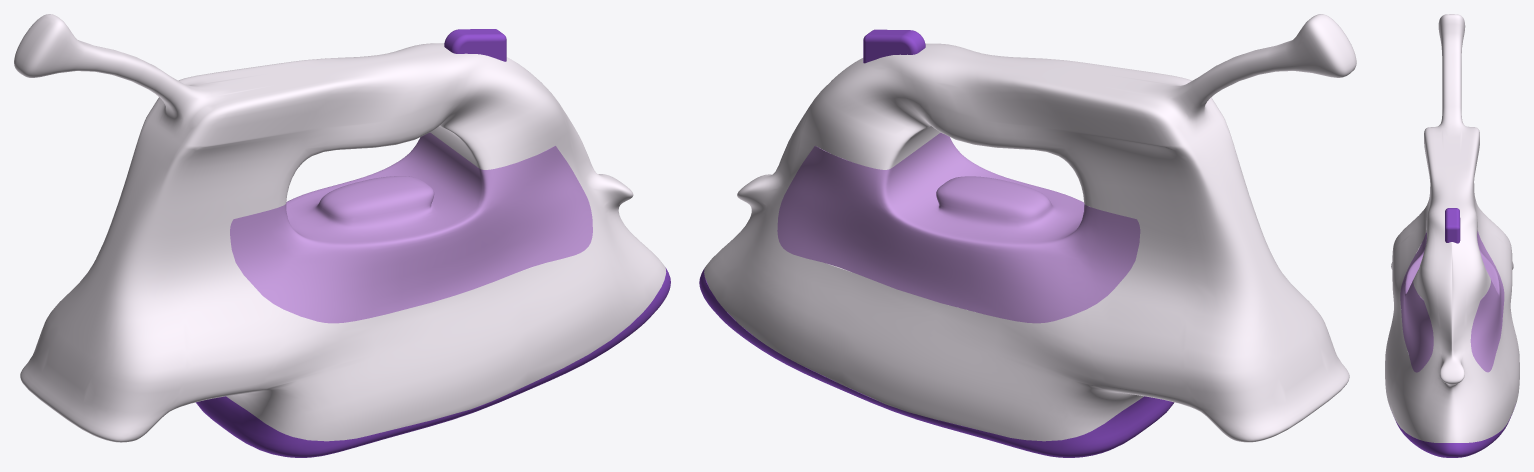
The model's file is watch.glb.
3 views of the same model, side by side, from view 1: azimuth 30°, elevation 25°; view 2: azimuth 150°, elevation 25°; view 3: azimuth 270°, elevation 25° (orthographic). The views are drawn at different scales.
Parts seen in each view (by area): view 1: watch; view 2: watch; view 3: watch.
Boxes of the visible parts, x1,y1,x2,y2 form: watch: (14, 14, 670, 457); watch: (699, 14, 1356, 457); watch: (1385, 14, 1519, 457).
Size of the model in its own units: 31.13 by 21.18 by 9.08.
